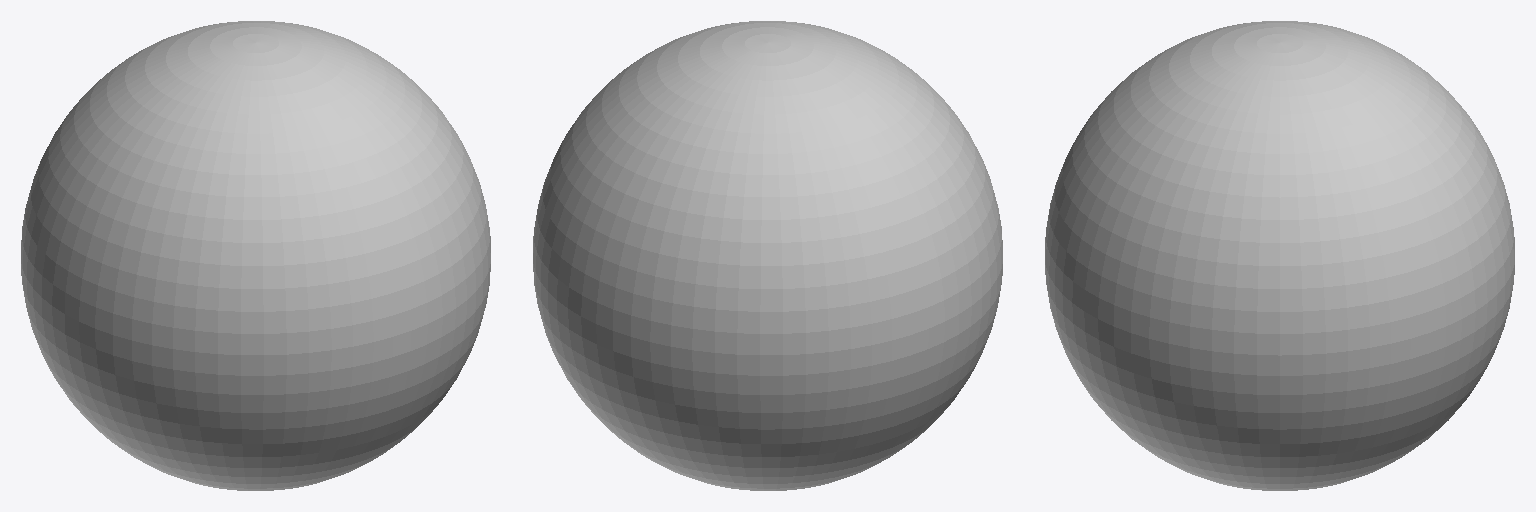
Rendered from earth2.obj.
The picture shows the model from 3 angles: view 1: azimuth 30°, elevation 25°; view 2: azimuth 150°, elevation 25°; view 3: azimuth 270°, elevation 25°; orthographic projection.
Visible parts, largest first — view 1: earth; view 2: earth; view 3: earth.
Boxes of the visible parts, <box> form: earth: <box>21,21,490,490</box>; earth: <box>533,21,1002,490</box>; earth: <box>1045,21,1514,490</box>.
Size of the model in its own units: 702 by 702 by 702.